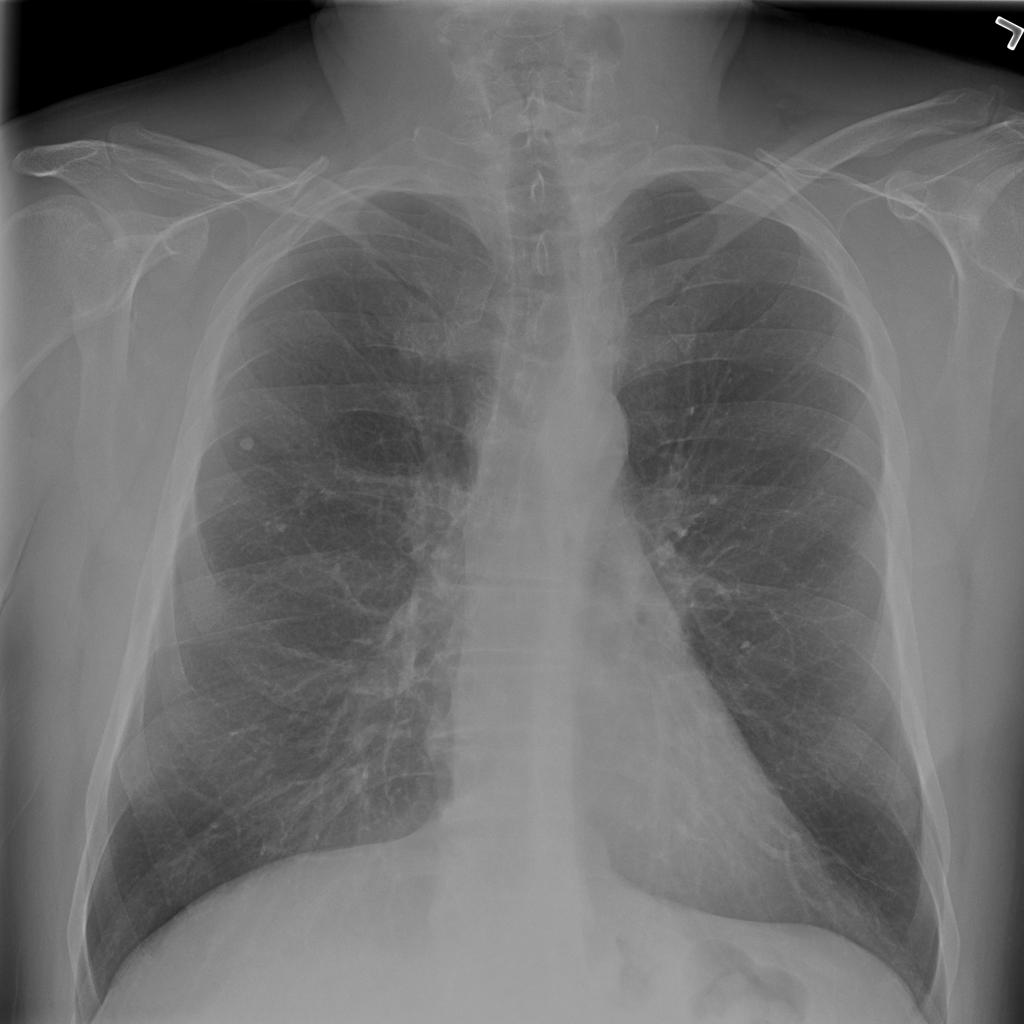nodule: (230, 426, 268, 462)
